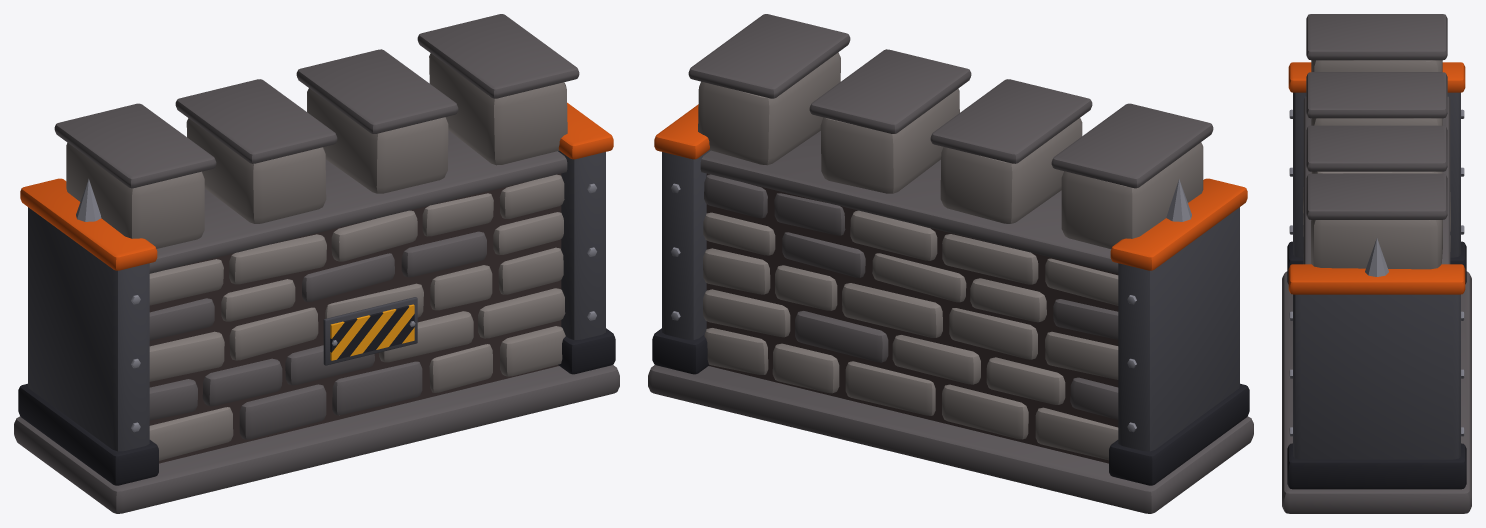
The model's file is Wall.obj.
3 renders of one model, left to right at view 1: azimuth 30°, elevation 25°; view 2: azimuth 150°, elevation 25°; view 3: azimuth 270°, elevation 25°, orthographic. The views are drawn at different scales.
Parts seen in each view (by area): view 1: Wall; view 2: Wall; view 3: Wall.
Part boxes in pixels (x1=…): Wall: x1=14, y1=14, x2=619, y2=513; Wall: x1=648, y1=14, x2=1253, y2=513; Wall: x1=1282, y1=14, x2=1471, y2=513.
Size of the model in its own units: 1.96 by 1.19 by 0.7.
